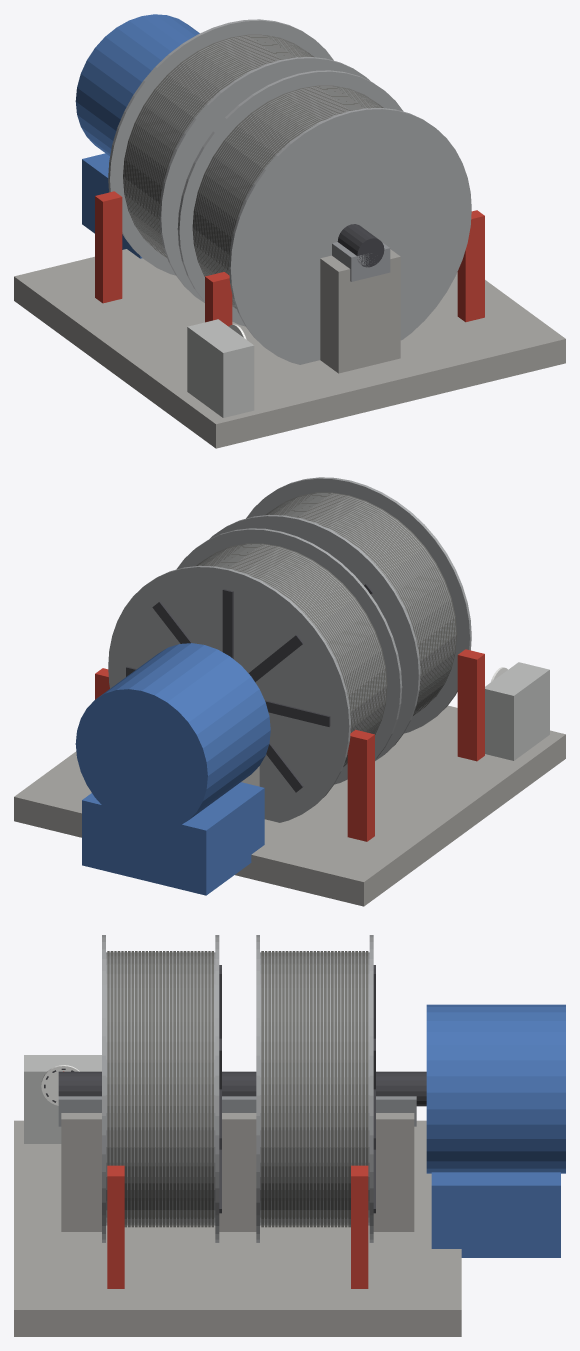
File: EQ_Winder_DoubleDrum.glb
The picture shows the model from 3 angles, top to bottom: view 1: azimuth 30°, elevation 25°; view 2: azimuth 150°, elevation 25°; view 3: azimuth 270°, elevation 25°; orthographic projection. The views are drawn at different scales.
Visible parts, largest first — view 1: WD_Drums, WD_Frame; view 2: WD_Frame, WD_Drums; view 3: WD_Frame, WD_Drums.
Part boxes in pixels (<box>): WD_Drums: <box>108,19,471,364</box>; WD_Frame: <box>14,14,565,448</box>; WD_Frame: <box>14,643,565,906</box>; WD_Drums: <box>108,477,471,822</box>; WD_Frame: <box>14,1004,565,1336</box>; WD_Drums: <box>58,935,426,1242</box>.
Bounding box in the file's own units: 9 × 6.5 × 11.1.
